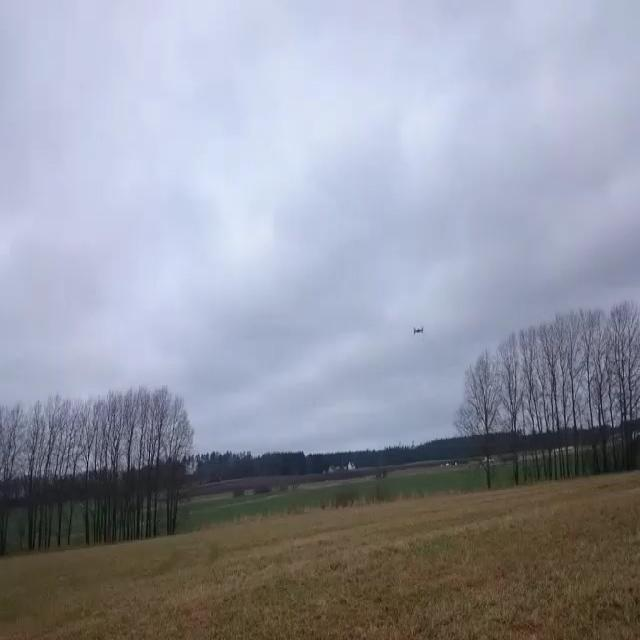drone: (412, 325, 424, 334)
